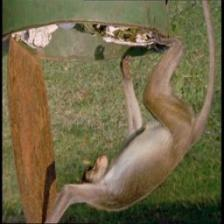monkey: (77, 142, 120, 206)
